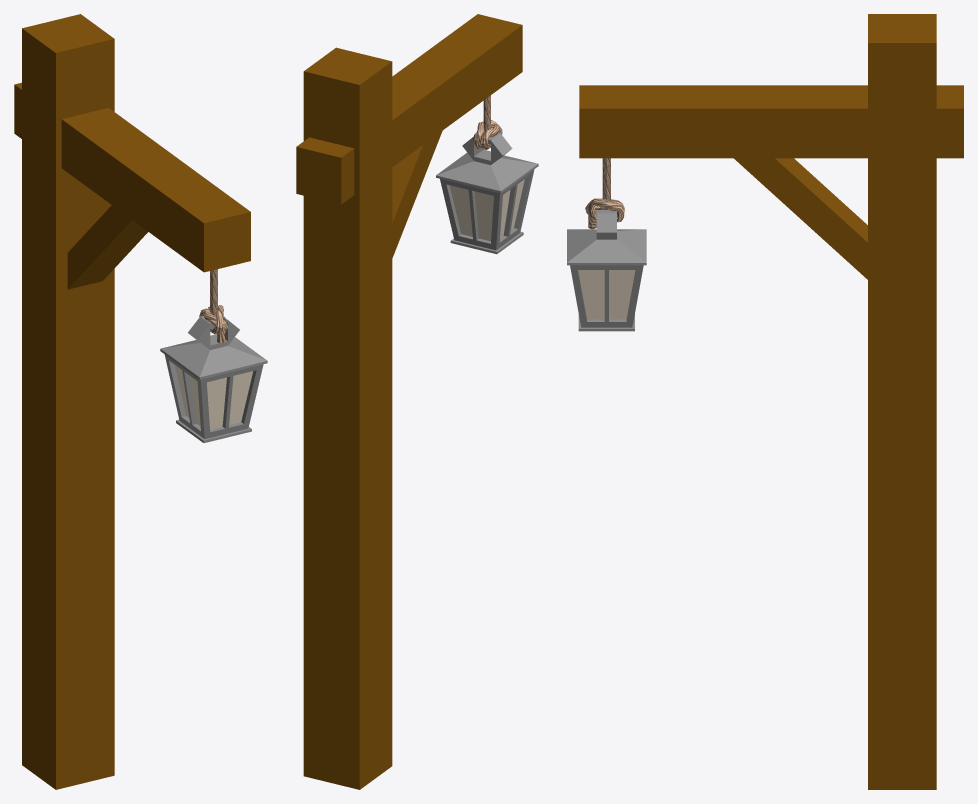
The model's file is Poste.fbx.
The picture shows the model from 3 angles, left to right: view 1: azimuth 30°, elevation 25°; view 2: azimuth 150°, elevation 25°; view 3: azimuth 270°, elevation 25°; orthographic projection. The views are drawn at different scales.
Visible parts, largest first — view 1: Poste, Lampada, Corda; view 2: Poste, Lampada, Corda; view 3: Poste, Lampada, Corda.
Part boxes in pixels (x1,y1,x2,y2): Poste: [14, 14, 250, 789]; Lampada: [160, 316, 267, 442]; Corda: [199, 269, 228, 343]; Poste: [296, 14, 522, 789]; Lampada: [436, 133, 538, 254]; Corda: [473, 95, 502, 149]; Poste: [579, 14, 963, 789]; Lampada: [567, 209, 646, 331]; Corda: [585, 158, 624, 229].
Size of the model in its own units: 29 by 300 by 145.
Materials: 4 (1 with a texture image).
